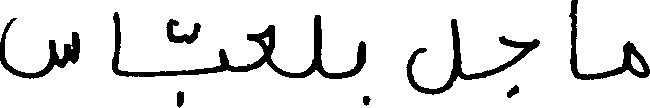ا: (568, 0, 578, 80), (109, 10, 119, 76)
ب: (175, 46, 230, 107), (353, 38, 371, 107)
ج: (498, 34, 541, 99)
س: (0, 15, 80, 79)
ع: (243, 22, 275, 72)
ل: (404, 17, 462, 95), (312, 12, 324, 77)
م: (620, 38, 648, 77)
